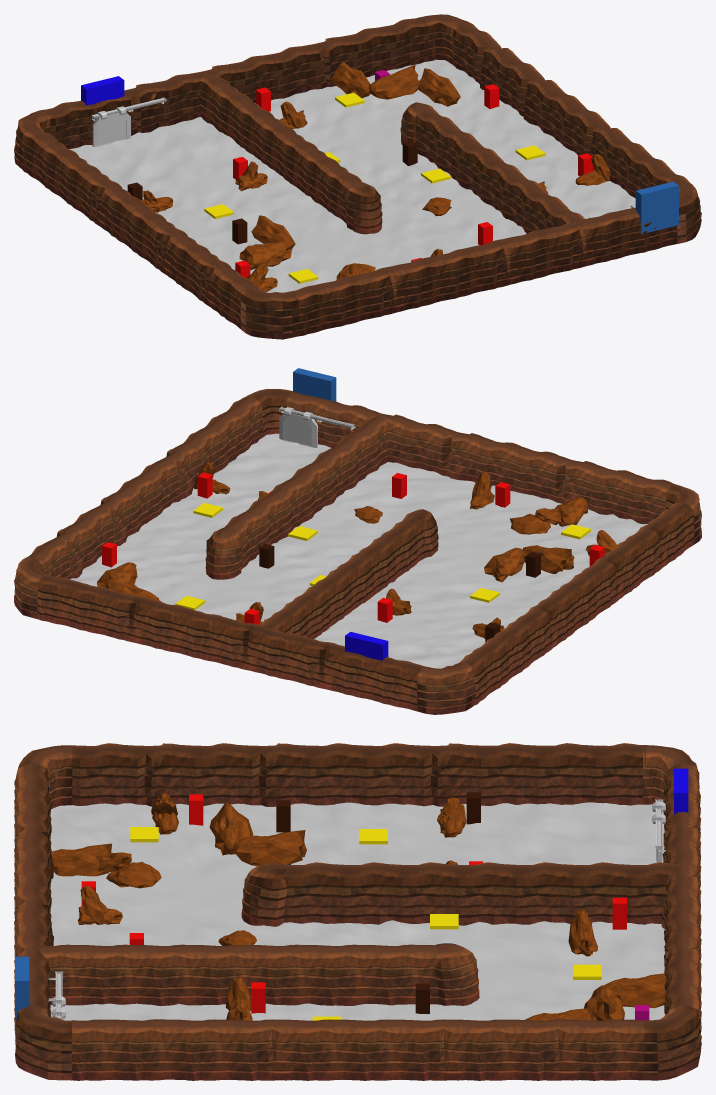
File: level1_b9v3_45_final.FBX
3 renders of one model, top to bottom at view 1: azimuth 30°, elevation 25°; view 2: azimuth 150°, elevation 25°; view 3: azimuth 270°, elevation 25°, orthographic. The views are drawn at different scales.
Visible parts, largest first — view 1: level1_wall045, Plane074, GeoSphere015, Box005, level1_door001, Box006, GeoSphere002; view 2: level1_wall045, Plane074, GeoSphere015, level1_door, Box005, GeoSphere002, Box006; view 3: level1_wall045, Plane074, GeoSphere015, GeoSphere002, Box005, Box006.
Part boxes in pixels (x1=…): level1_wall045: x1=14, y1=14, x2=701, y2=339; Plane074: x1=69, y1=59, x2=635, y2=292; GeoSphere015: x1=141, y1=62, x2=610, y2=291; Box005: x1=635, y1=181, x2=678, y2=234; level1_door001: x1=92, y1=106, x2=130, y2=146; Box006: x1=81, y1=76, x2=124, y2=105; GeoSphere002: x1=336, y1=197, x2=451, y2=279; level1_wall045: x1=14, y1=389, x2=701, y2=714; Plane074: x1=70, y1=433, x2=647, y2=668; GeoSphere015: x1=97, y1=462, x2=617, y2=638; level1_door: x1=279, y1=407, x2=317, y2=447; Box005: x1=293, y1=368, x2=336, y2=401; GeoSphere002: x1=354, y1=506, x2=550, y2=534; Box006: x1=345, y1=632, x2=388, y2=660; level1_wall045: x1=14, y1=743, x2=701, y2=1080; Plane074: x1=50, y1=802, x2=665, y2=1020; GeoSphere015: x1=51, y1=793, x2=665, y2=1020; GeoSphere002: x1=106, y1=862, x2=256, y2=945; Box005: x1=15, y1=956, x2=29, y2=1032; Box006: x1=674, y1=768, x2=688, y2=814.
Size of the model in its own units: 1893 by 263 by 1892.
